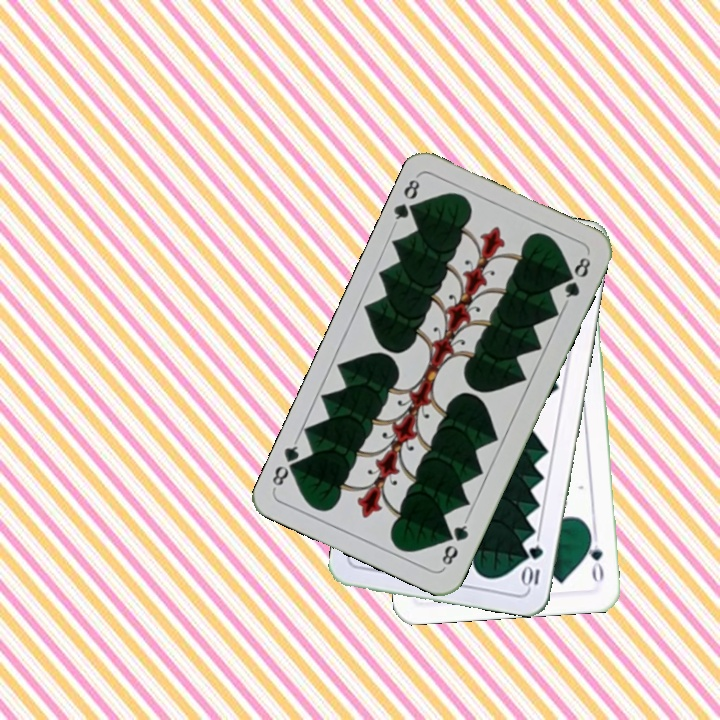G10: (520, 541, 546, 590)
G8: (389, 172, 424, 228), (437, 515, 471, 571)
GO: (583, 527, 606, 586)
